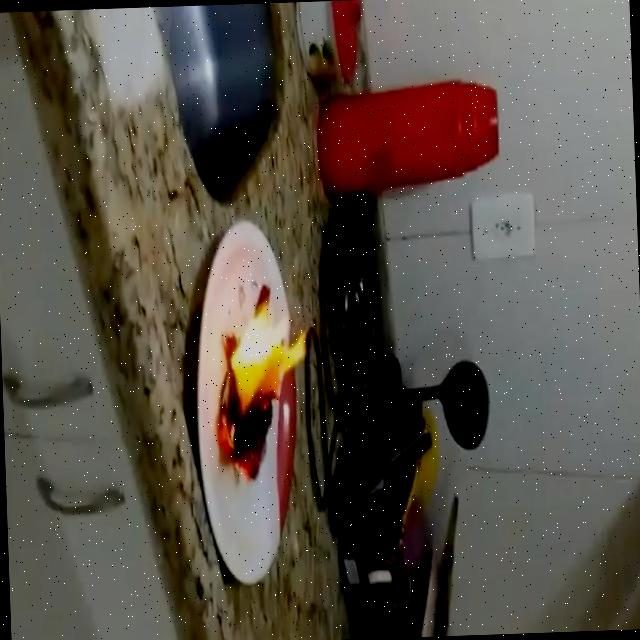fire: (209, 302, 314, 481)
